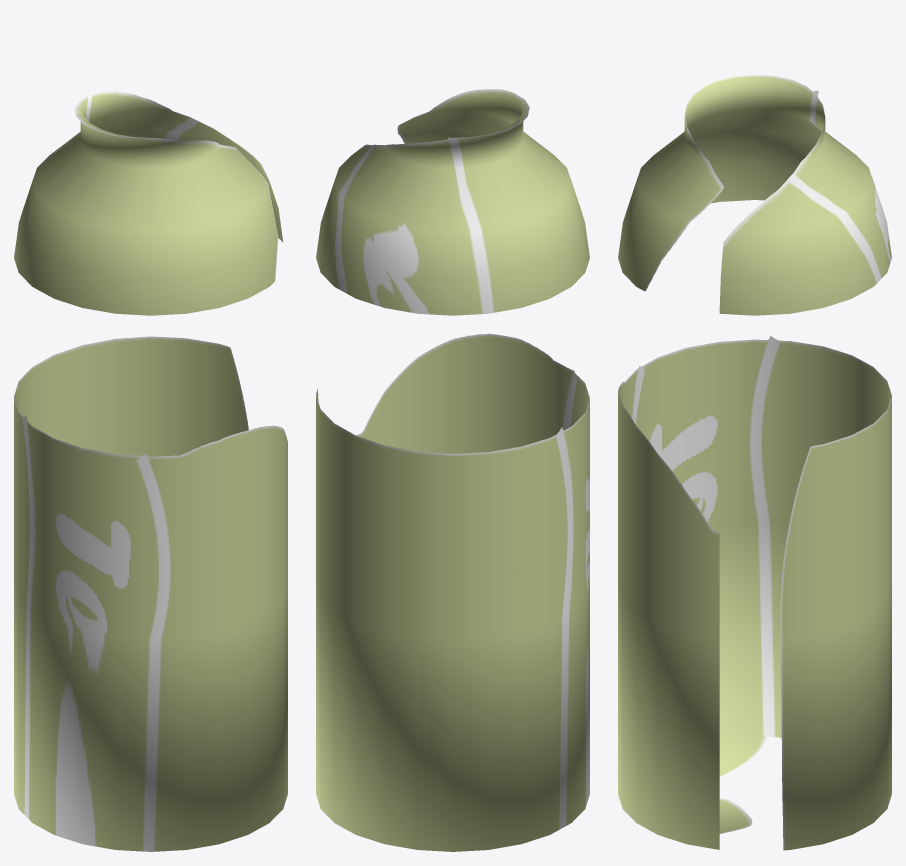
File: tea.fbx
3 renders of one model, left to right at view 1: azimuth 30°, elevation 25°; view 2: azimuth 150°, elevation 25°; view 3: azimuth 270°, elevation 25°, orthographic.
Parts seen in each view (by area): view 1: Mesh; view 2: Mesh; view 3: Mesh.
Part boxes in pixels (box(x1,y1,x2,y2)): Mesh: box(14, 91, 287, 851); Mesh: box(316, 89, 589, 851); Mesh: box(618, 74, 891, 850).
Bounding box in the file's own units: 134 × 403 × 134.
